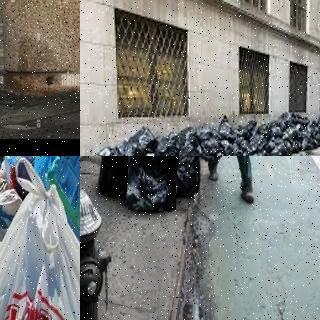Garbage: (0, 156, 80, 320), (25, 156, 80, 256), (126, 156, 177, 211), (97, 156, 140, 200), (167, 156, 200, 198), (130, 125, 162, 153), (90, 144, 126, 156)
